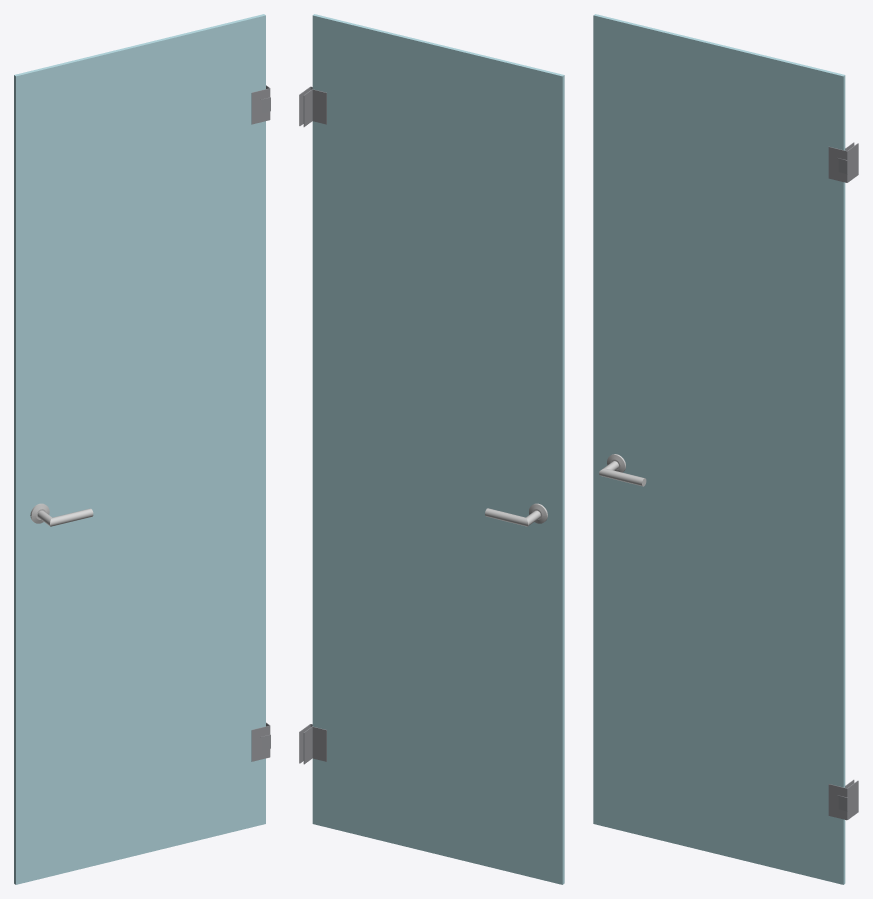
File: Tuere_WC.glb
The picture shows the model from 3 angles, left to right: view 1: azimuth 30°, elevation 25°; view 2: azimuth 150°, elevation 25°; view 3: azimuth 330°, elevation 25°; orthographic projection.
Parts seen in each view (by area): view 1: Mesh1 Component_209 G_21_T_re_WC_dwg1 Model, Mesh13 Component_221 G_21_T_re_WC_dwg1 Model, Mesh7 Component_215 G_21_T_re_WC_dwg1 Model, Mesh2 Component_210 G_21_T_re_WC_dwg1 Model; view 2: Mesh1 Component_209 G_21_T_re_WC_dwg1 Model, Mesh12 Component_220 G_21_T_re_WC_dwg1 Model; view 3: Mesh1 Component_209 G_21_T_re_WC_dwg1 Model, Mesh13 Component_221 G_21_T_re_WC_dwg1 Model, Mesh2 Component_210 G_21_T_re_WC_dwg1 Model, Mesh7 Component_215 G_21_T_re_WC_dwg1 Model.
Part boxes in pixels (box(x1,y1,x2,y2)): Mesh1 Component_209 G_21_T_re_WC_dwg1 Model: box(14, 14, 265, 884); Mesh13 Component_221 G_21_T_re_WC_dwg1 Model: box(30, 503, 93, 526); Mesh7 Component_215 G_21_T_re_WC_dwg1 Model: box(251, 88, 270, 124); Mesh2 Component_210 G_21_T_re_WC_dwg1 Model: box(251, 725, 270, 761); Mesh1 Component_209 G_21_T_re_WC_dwg1 Model: box(312, 14, 564, 884); Mesh12 Component_220 G_21_T_re_WC_dwg1 Model: box(485, 503, 547, 526); Mesh1 Component_209 G_21_T_re_WC_dwg1 Model: box(593, 14, 845, 884); Mesh13 Component_221 G_21_T_re_WC_dwg1 Model: box(599, 454, 646, 486); Mesh2 Component_210 G_21_T_re_WC_dwg1 Model: box(828, 784, 847, 820); Mesh7 Component_215 G_21_T_re_WC_dwg1 Model: box(828, 146, 847, 182).
Size of the model in its own units: 75.78 by 230 by 15.86.
